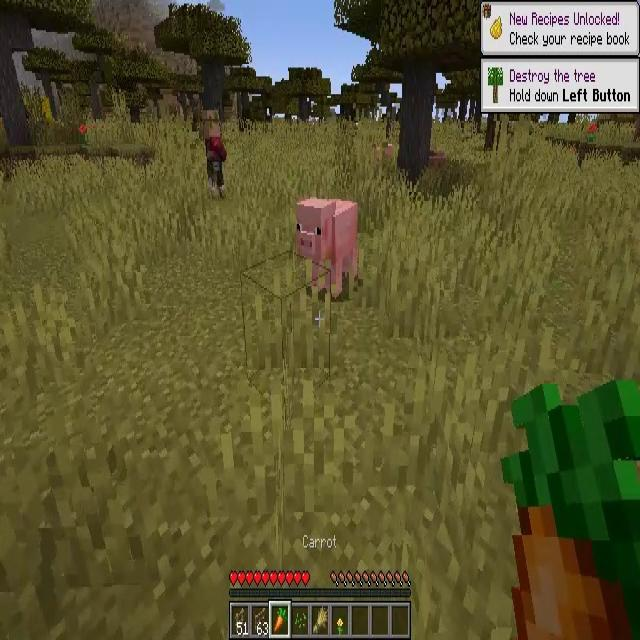people: (204, 109, 226, 197)
pig: (294, 195, 359, 294)
